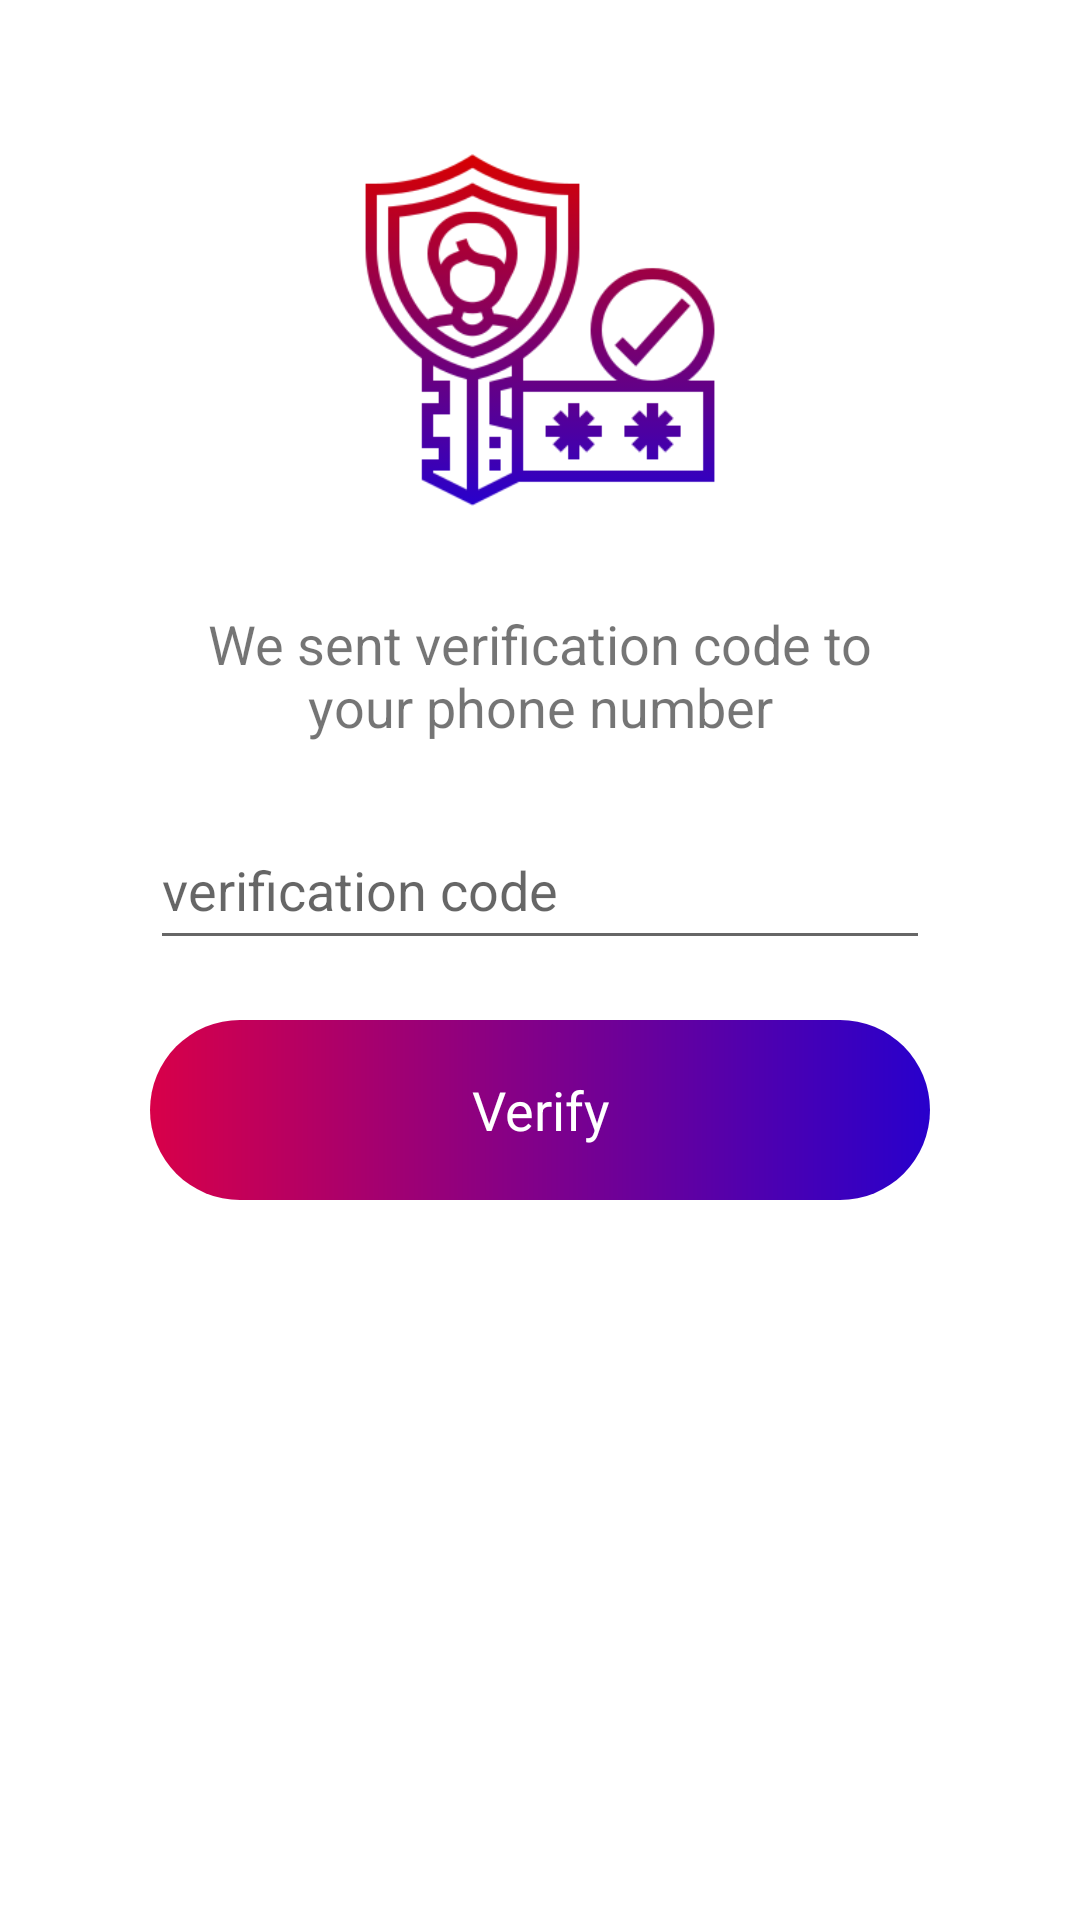

Locate icon controls on the screen. Image size 1080w x 1920h, boxes as (x1, y1, x2, y2).
password: (365, 154, 715, 506)
